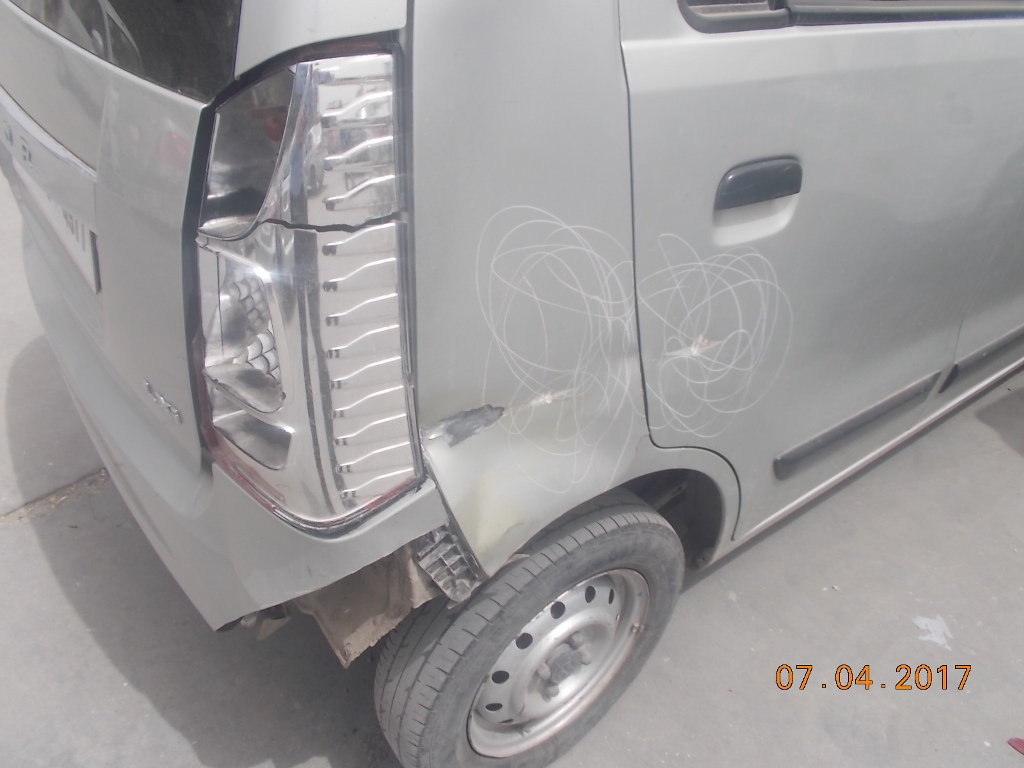Dent: (427, 400, 553, 449)
Dislocation: (213, 522, 472, 673)
